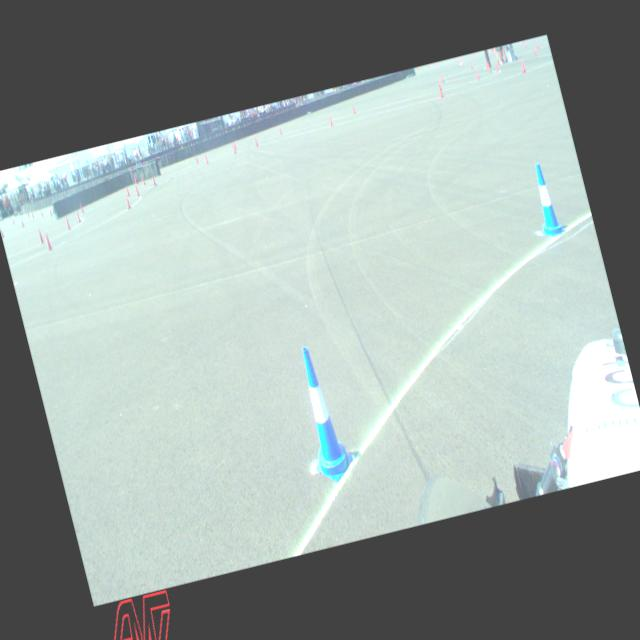blue_cone: (287, 342, 356, 484), (526, 160, 566, 238)
unknown_cone: (44, 233, 51, 249), (38, 228, 44, 242), (531, 46, 537, 58), (438, 83, 443, 97), (125, 195, 130, 208), (65, 217, 70, 230), (520, 59, 525, 72), (328, 114, 333, 126), (486, 60, 491, 72), (135, 186, 140, 197), (76, 211, 80, 222), (438, 79, 442, 90), (475, 68, 479, 78), (440, 72, 444, 82), (495, 62, 499, 72), (0, 228, 4, 238), (204, 154, 208, 164), (254, 136, 258, 146), (79, 203, 83, 212), (352, 104, 356, 113), (141, 176, 145, 185), (535, 40, 539, 49), (126, 187, 130, 196), (151, 175, 155, 184), (278, 125, 282, 134), (232, 144, 236, 152), (522, 40, 526, 47), (48, 208, 52, 215), (40, 208, 43, 216), (195, 154, 198, 162), (233, 141, 236, 149), (485, 59, 488, 67), (21, 219, 24, 226), (51, 206, 54, 213), (461, 59, 464, 66), (458, 58, 461, 64), (470, 60, 472, 68), (12, 218, 14, 224)
